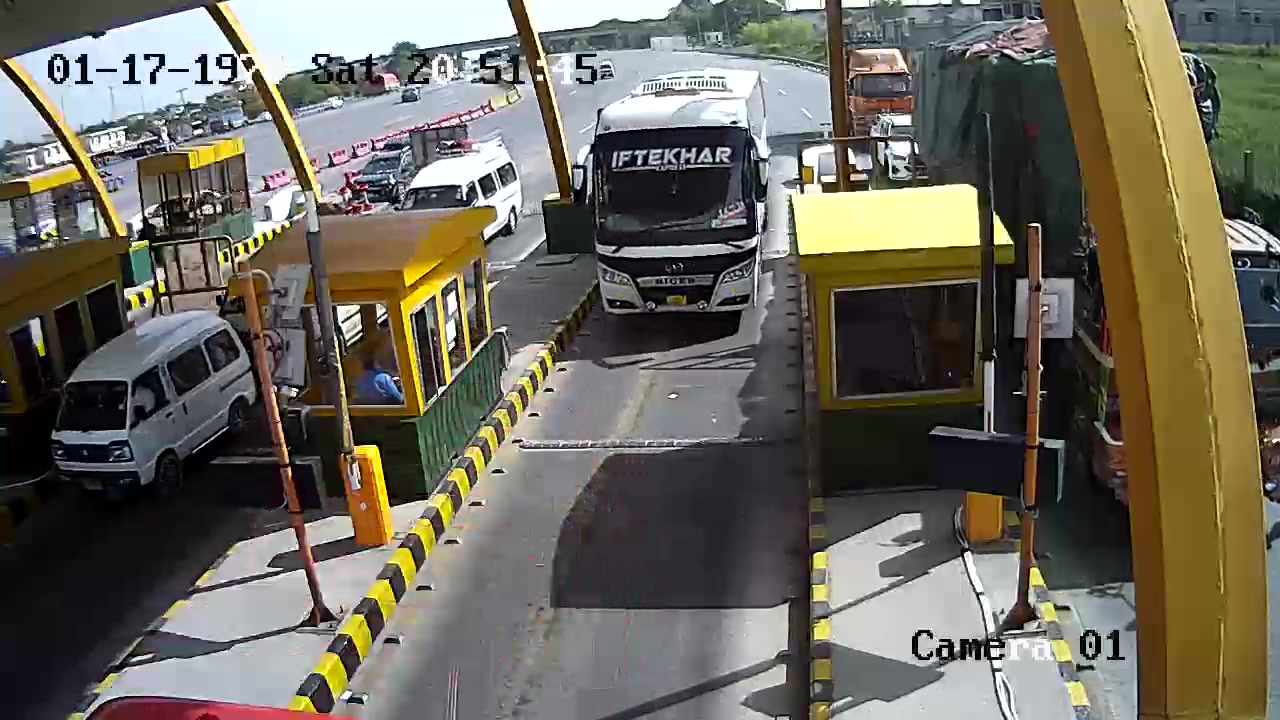F4: (593, 62, 776, 321)
